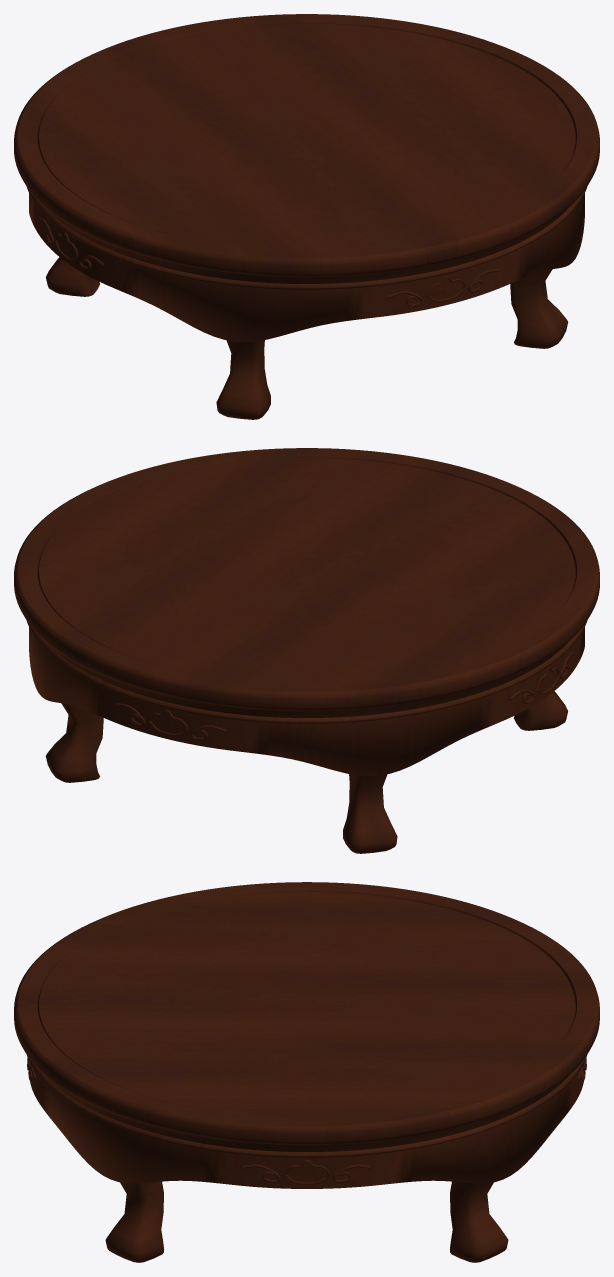
Rendered from gpt-yuankangzhuo-v1.glb.
The picture shows the model from 3 angles, top to bottom: view 1: azimuth 30°, elevation 25°; view 2: azimuth 150°, elevation 25°; view 3: azimuth 270°, elevation 25°; orthographic projection.
Visible parts, largest first — view 1: 10_花梨圆炕桌; view 2: 10_花梨圆炕桌; view 3: 10_花梨圆炕桌.
Boxes of the visible parts, x1,y1,x2,y2 form: 10_花梨圆炕桌: (14, 14, 599, 419); 10_花梨圆炕桌: (14, 448, 599, 853); 10_花梨圆炕桌: (14, 882, 599, 1262).
Size of the model in its own units: 0.9 by 0.3 by 0.9.
1 material, 1 textured.
